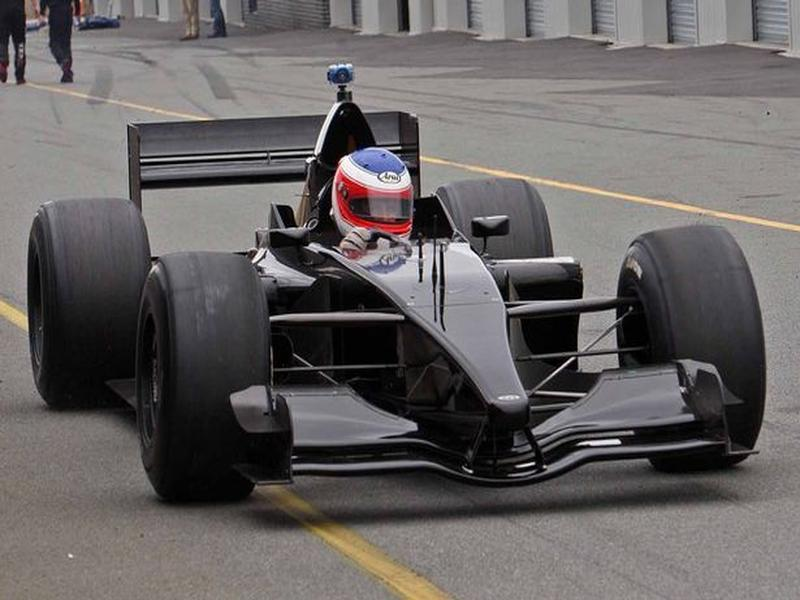f1: (20, 96, 767, 527)
